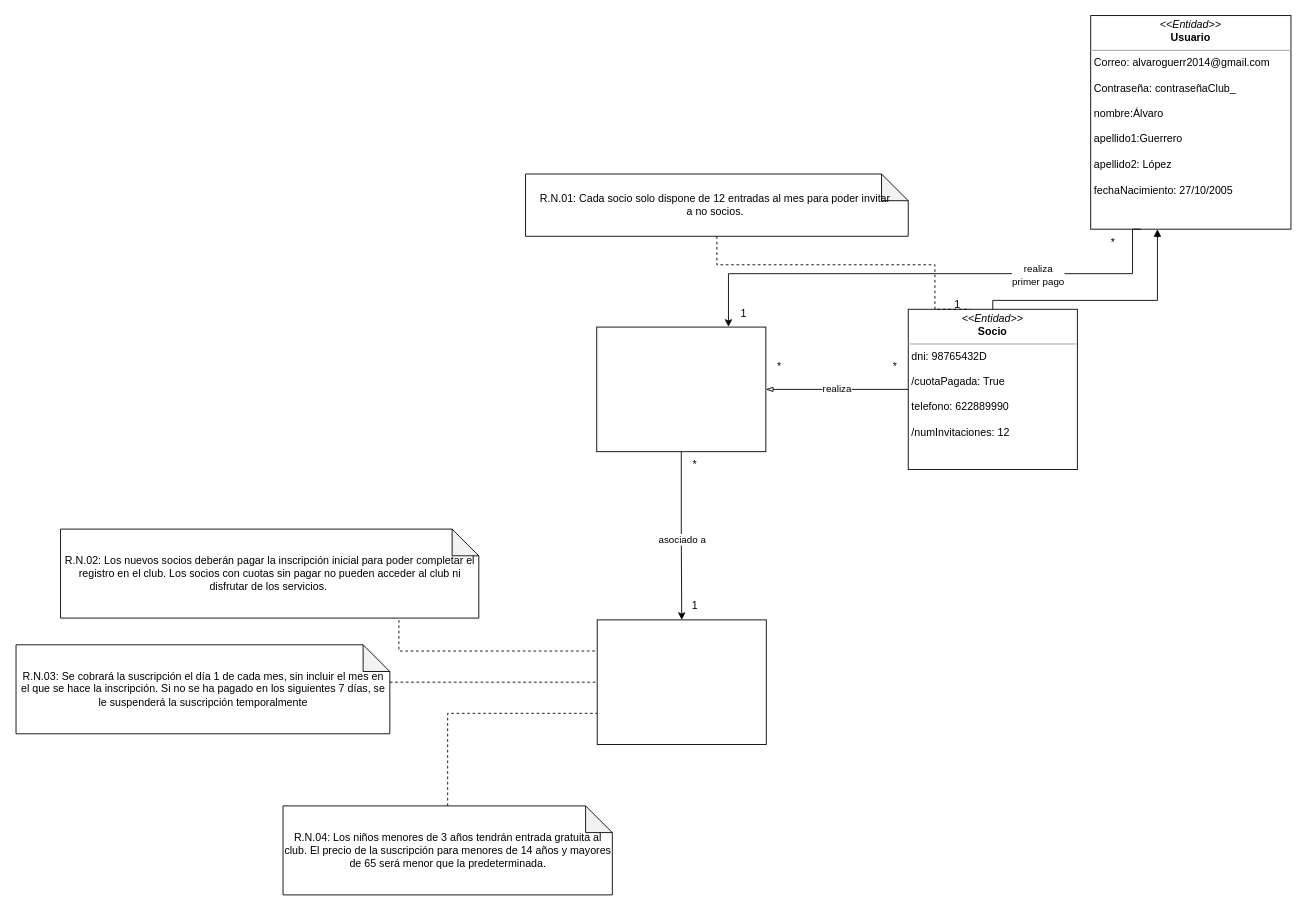
Some shapes in this 1307 by 910 pixel diagram are drawn without their labels. The shapes that lost their labels are listed below. From the top down, each one's centre as x and y in pixels, then its label:
At (681,389): "<<Entidad>> Pago fechaRealización:1/12/24 metodoPago: Transferencia".
At (681,681): "<<Entidad>> Suscripción precio:105 tipo: NORMAL".
